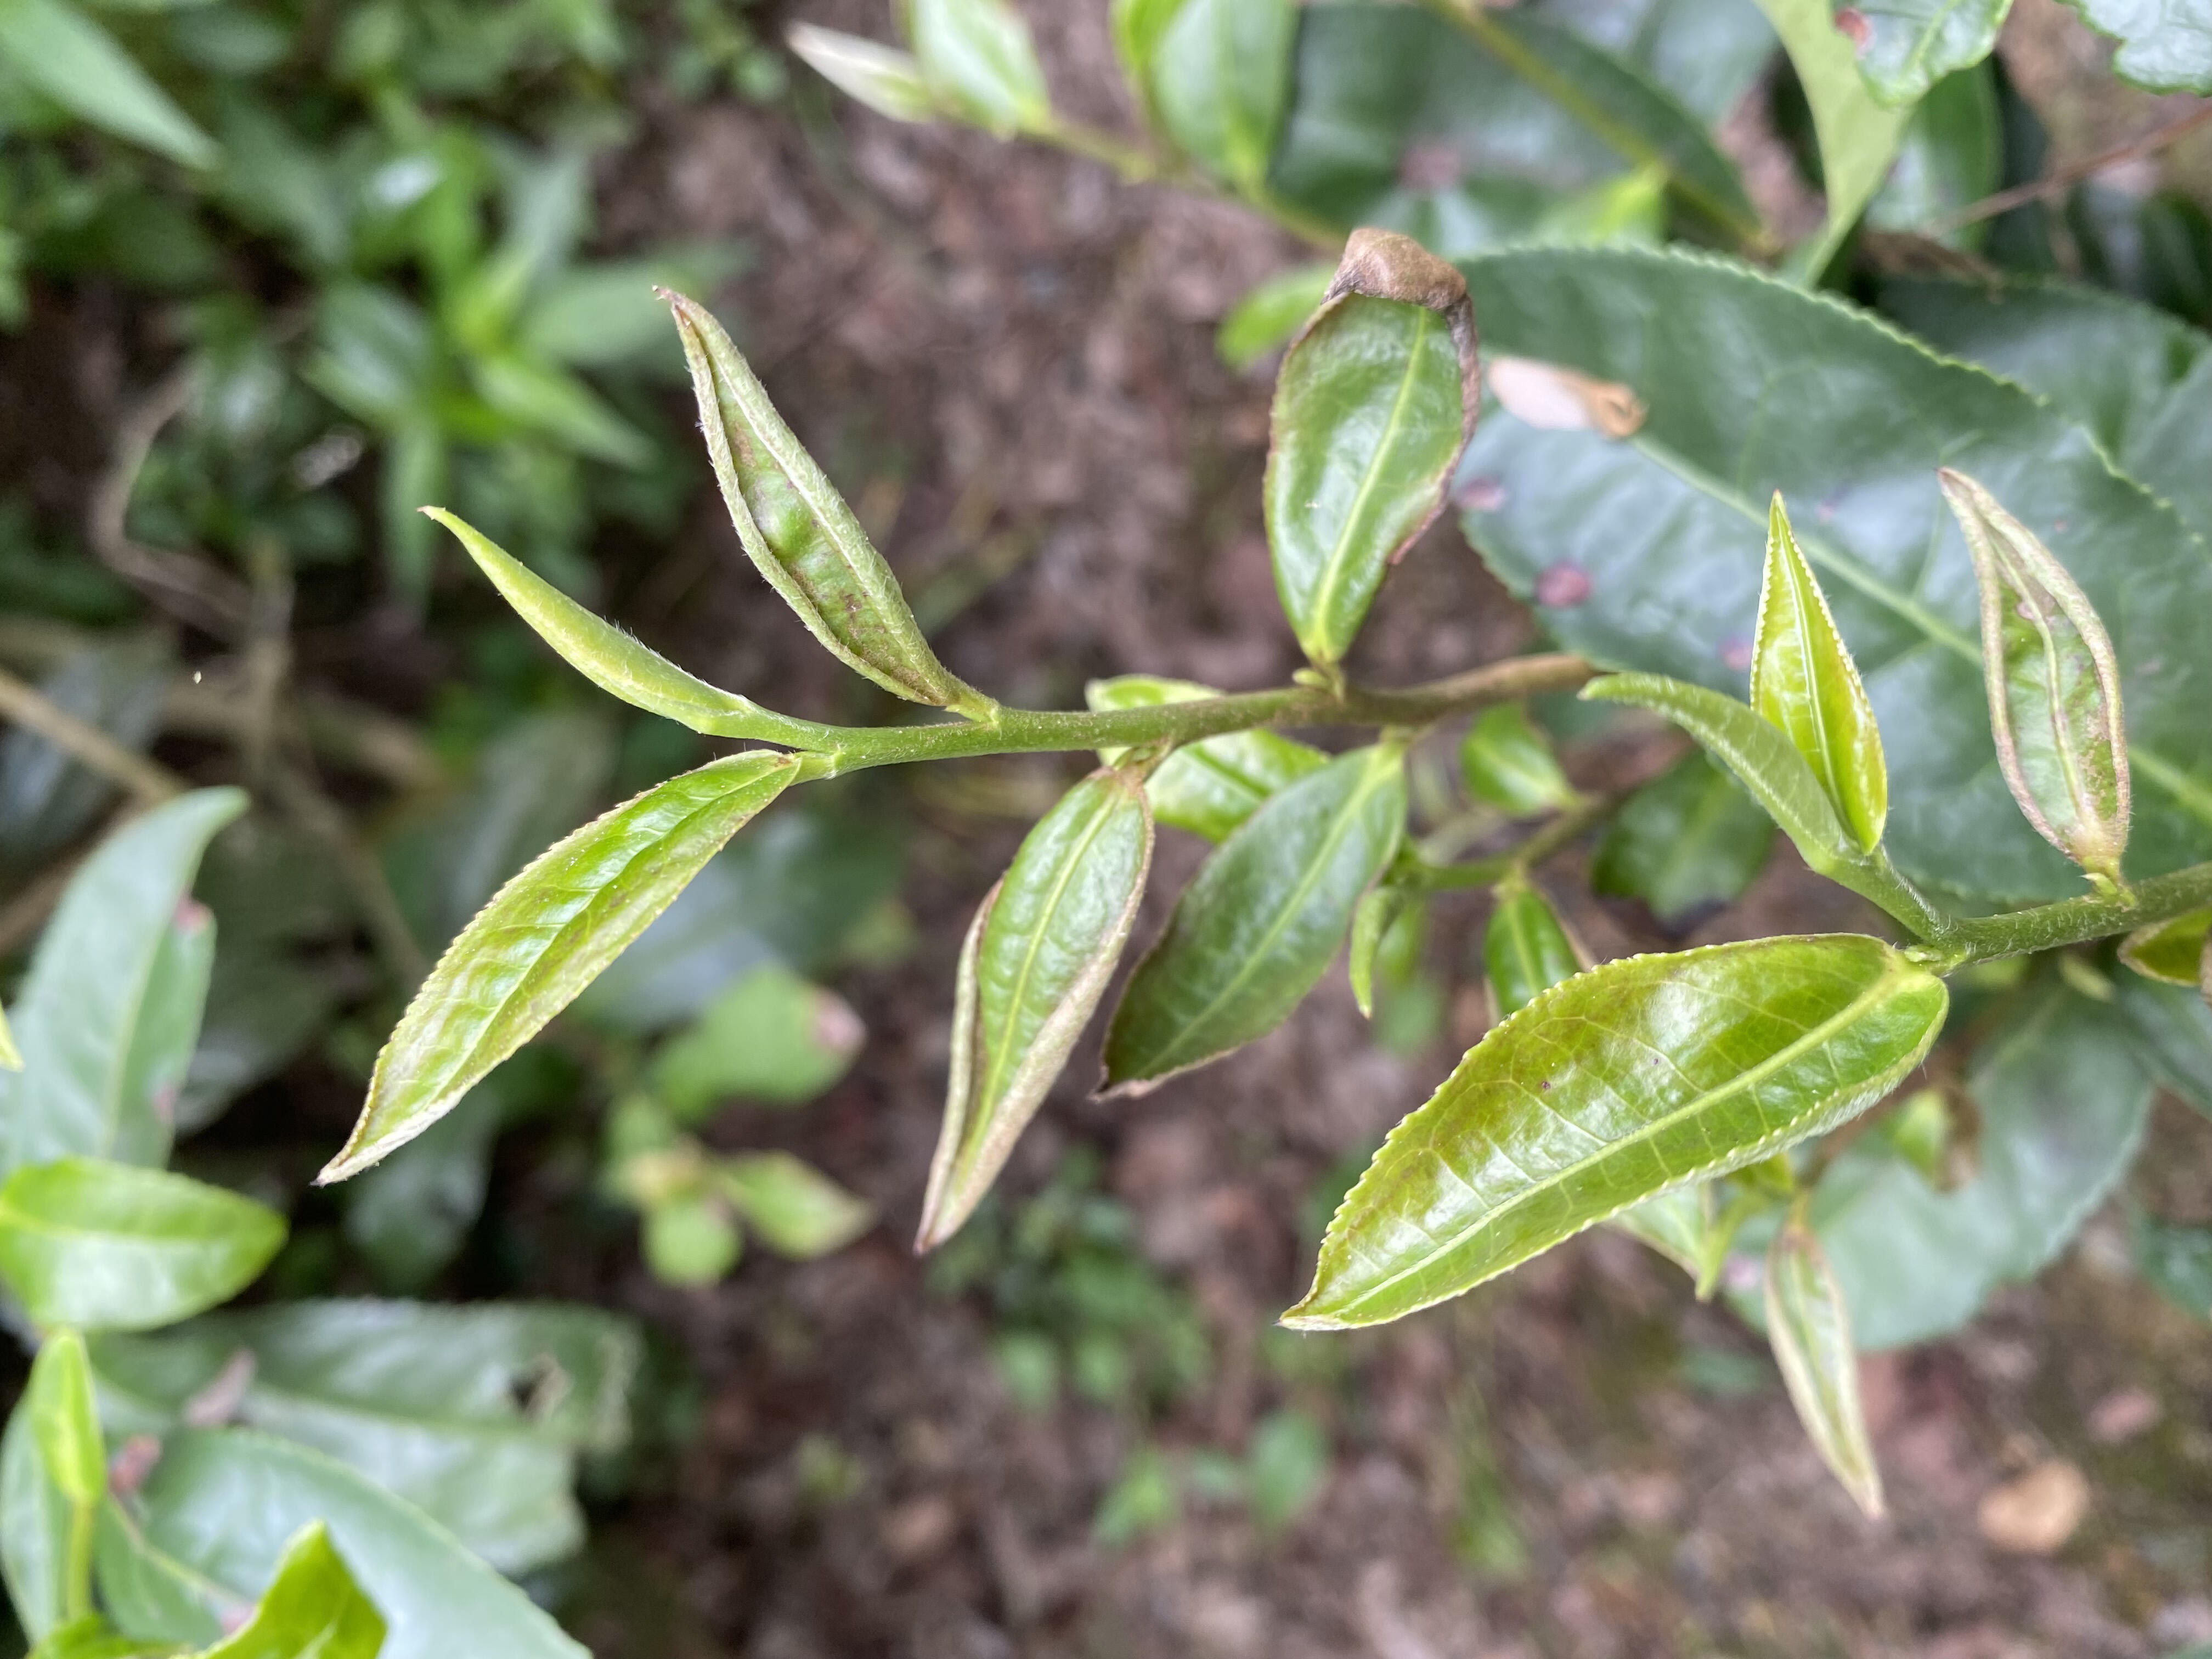healthy: (1277, 931, 1952, 1337), (315, 748, 803, 1188), (657, 288, 954, 706), (1745, 488, 1892, 857)
tanju_high: (1258, 223, 1484, 667)
tanju_low: (911, 763, 1158, 1256), (1932, 460, 2132, 870)
